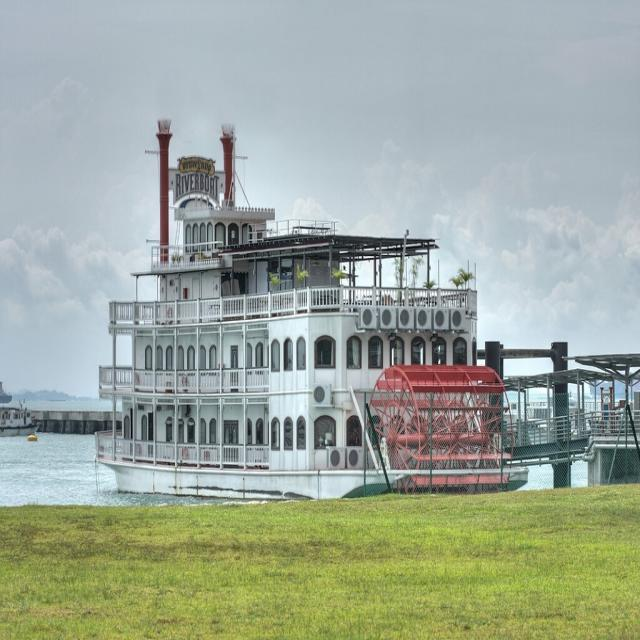boat: (87, 198, 533, 493)
